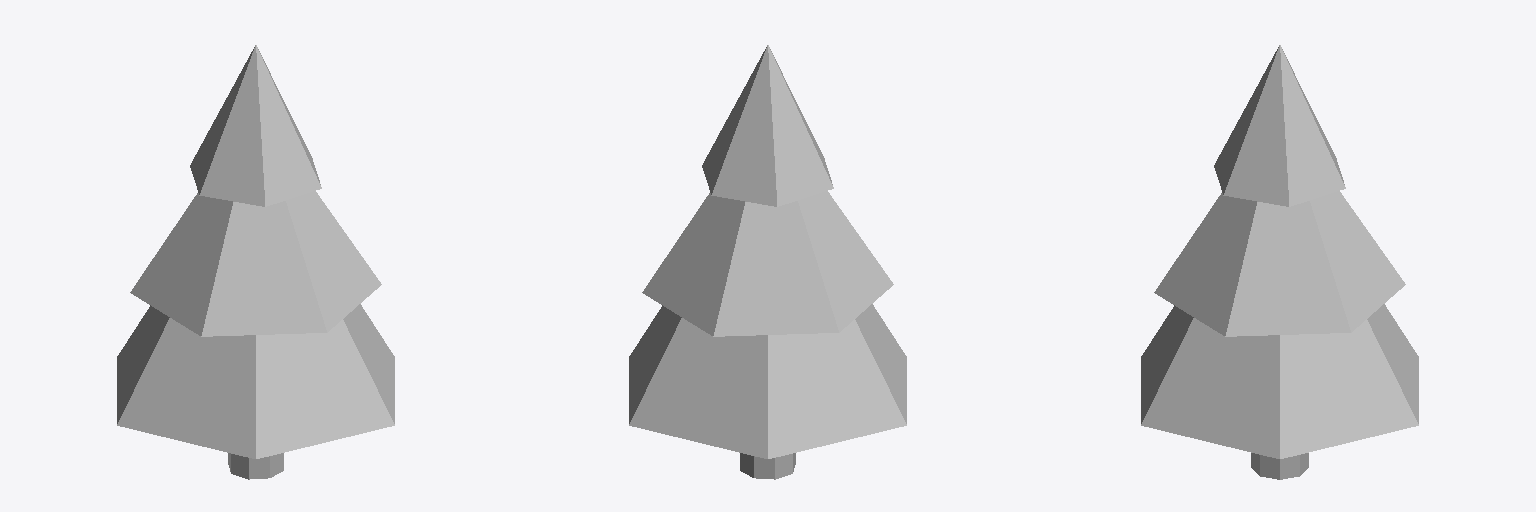
The model's file is pineTree_1.obj.
3 views of the same model, side by side, from view 1: azimuth 30°, elevation 25°; view 2: azimuth 150°, elevation 25°; view 3: azimuth 270°, elevation 25° (orthographic).
Bounding box in the file's own units: 233 × 339 × 202.